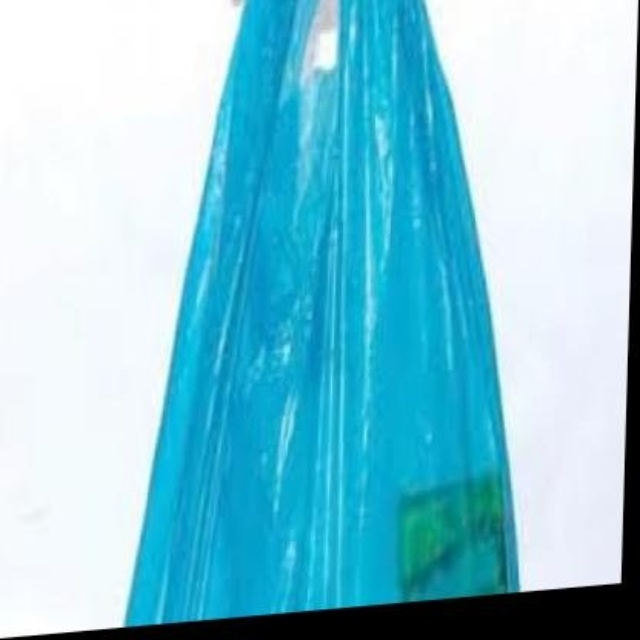trash: (128, 0, 517, 623)
